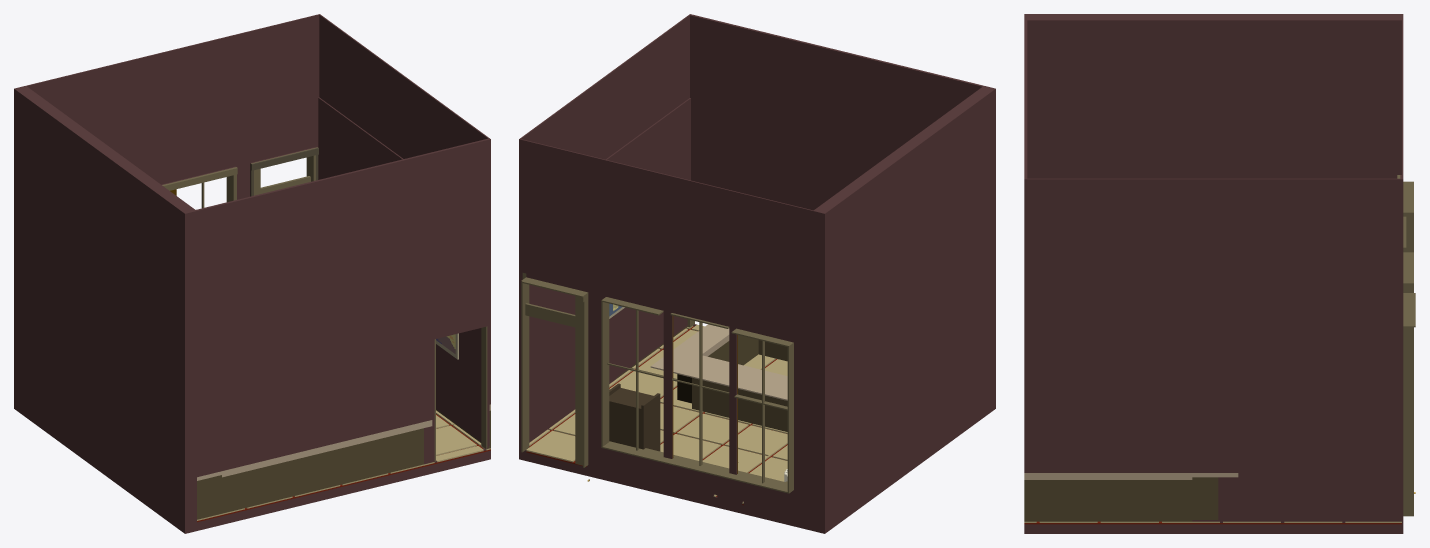
Rendered from cafeBox.obj.
3 views of the same model, side by side, from view 1: azimuth 30°, elevation 25°; view 2: azimuth 150°, elevation 25°; view 3: azimuth 270°, elevation 25° (orthographic). The views are drawn at different scales.
Bounding box in the file's own units: 25.6 × 25.6 × 25.6.
1 material, 1 textured.
